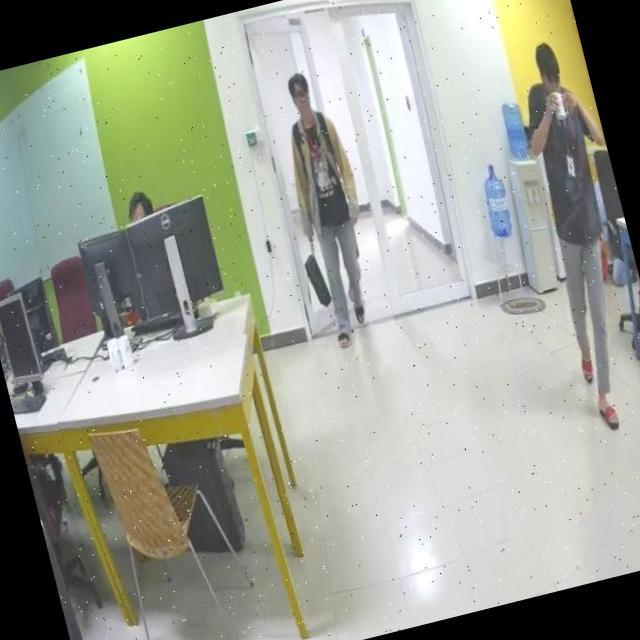person: (494, 34, 640, 432), (265, 64, 394, 354)
